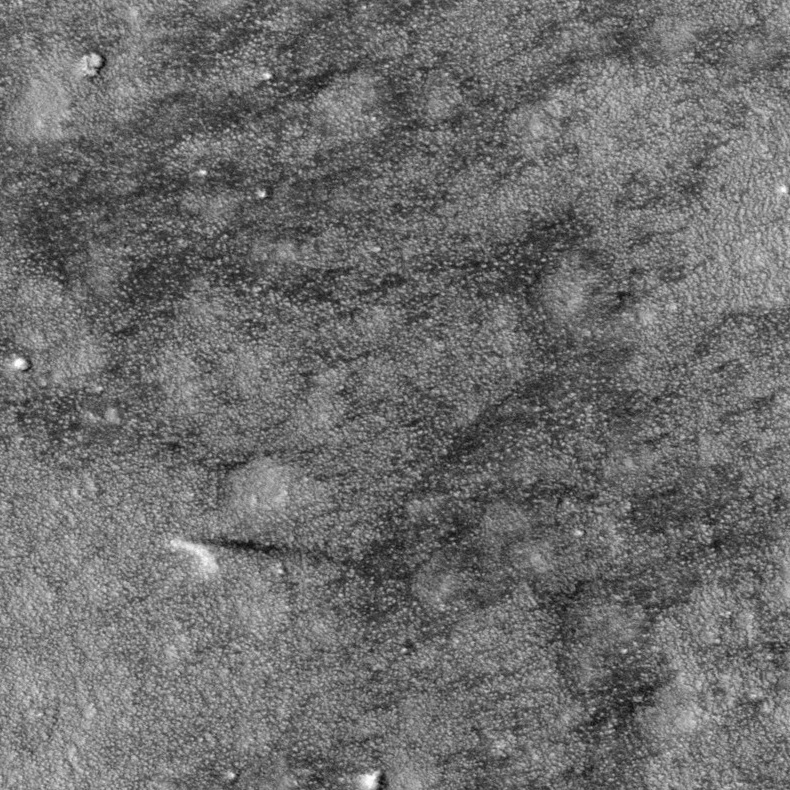dust_devil: (166, 534, 324, 578)
